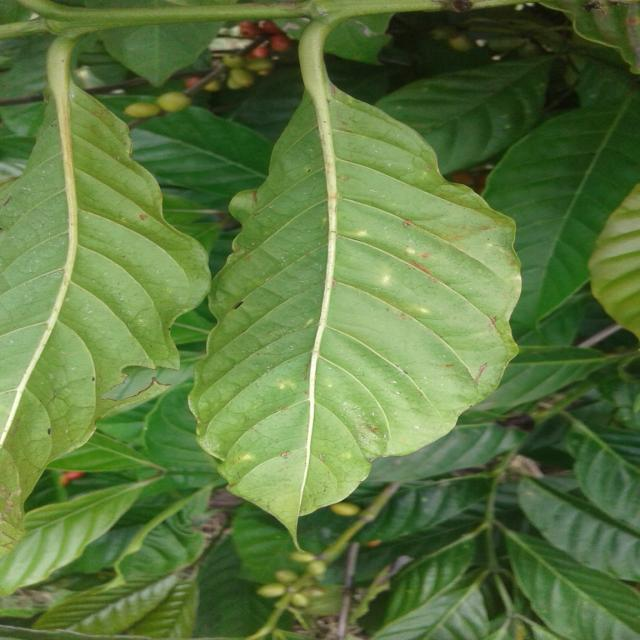Enfermedad-Roya: (187, 69, 522, 541)
